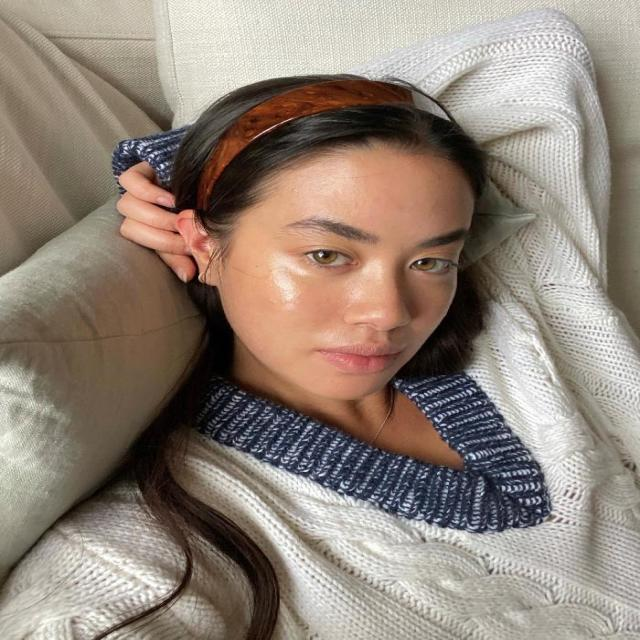Acne: (309, 169, 468, 222)
Oily-Skin: (254, 245, 396, 340)
